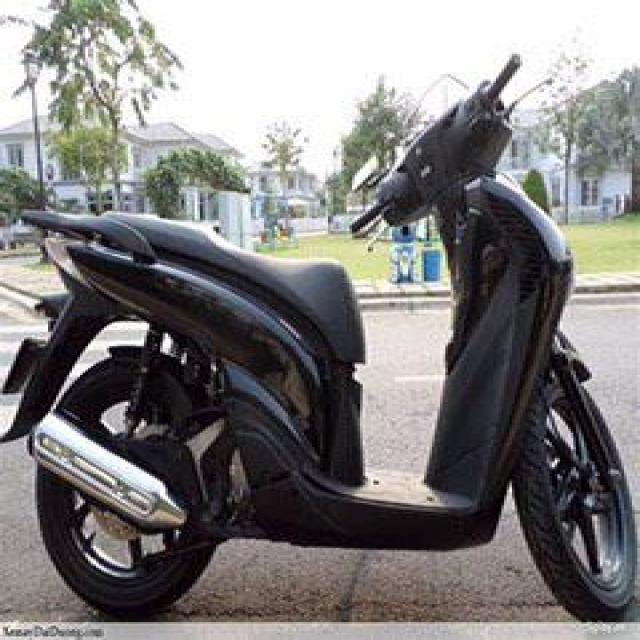motorcycle: (5, 57, 638, 628)
